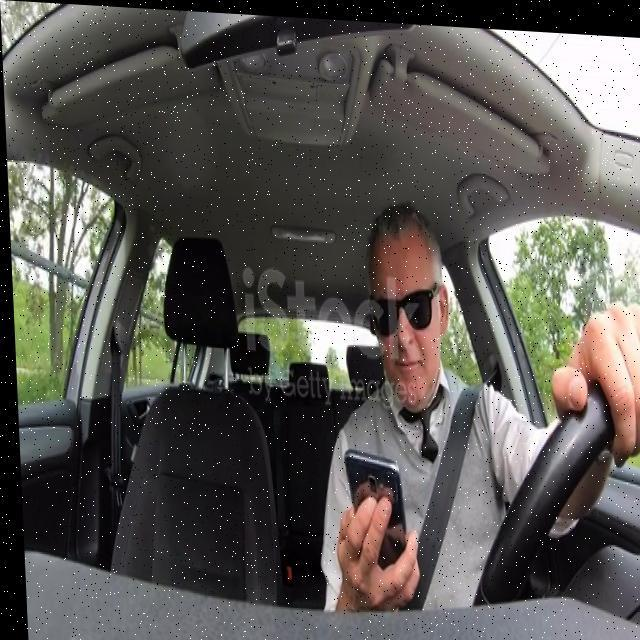PhoneCall: (337, 447, 403, 585)
